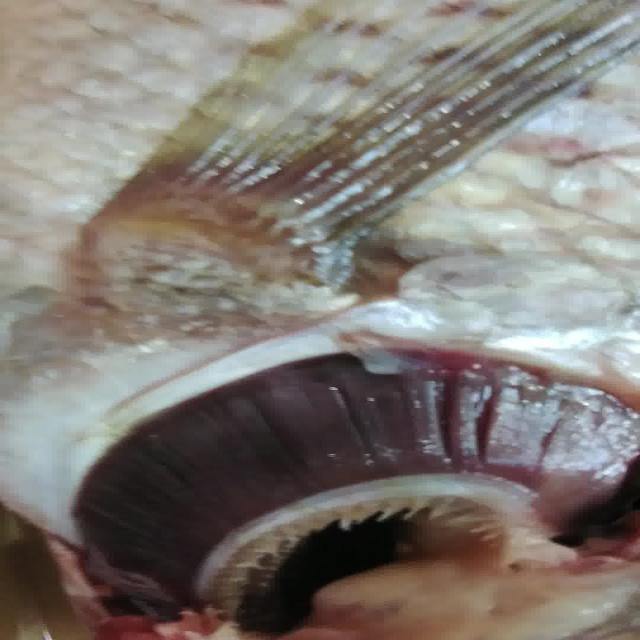Non-Fresh: (54, 350, 618, 617)
